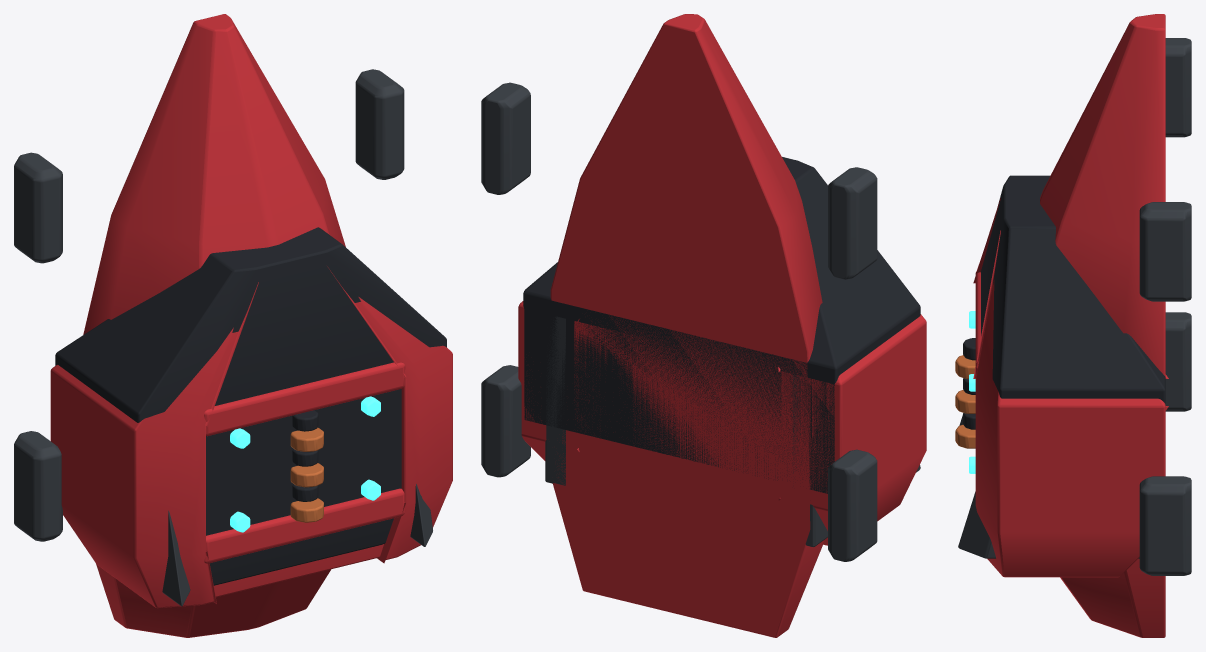
Rendered from CalfFront_Set06_Voltaic.fbx.
3 renders of one model, left to right at view 1: azimuth 30°, elevation 25°; view 2: azimuth 150°, elevation 25°; view 3: azimuth 270°, elevation 25°, orthographic. The views are drawn at different scales.
Parts seen in each view (by area): view 1: CalfFront_Set06_Voltaic; view 2: CalfFront_Set06_Voltaic; view 3: CalfFront_Set06_Voltaic.
Part boxes in pixels (box(x1,y1,x2,y2)): CalfFront_Set06_Voltaic: box(14, 14, 452, 637); CalfFront_Set06_Voltaic: box(481, 14, 926, 637); CalfFront_Set06_Voltaic: box(955, 14, 1191, 637).
Bounding box in the file's own units: 0.49 × 0.73 × 0.2732.
